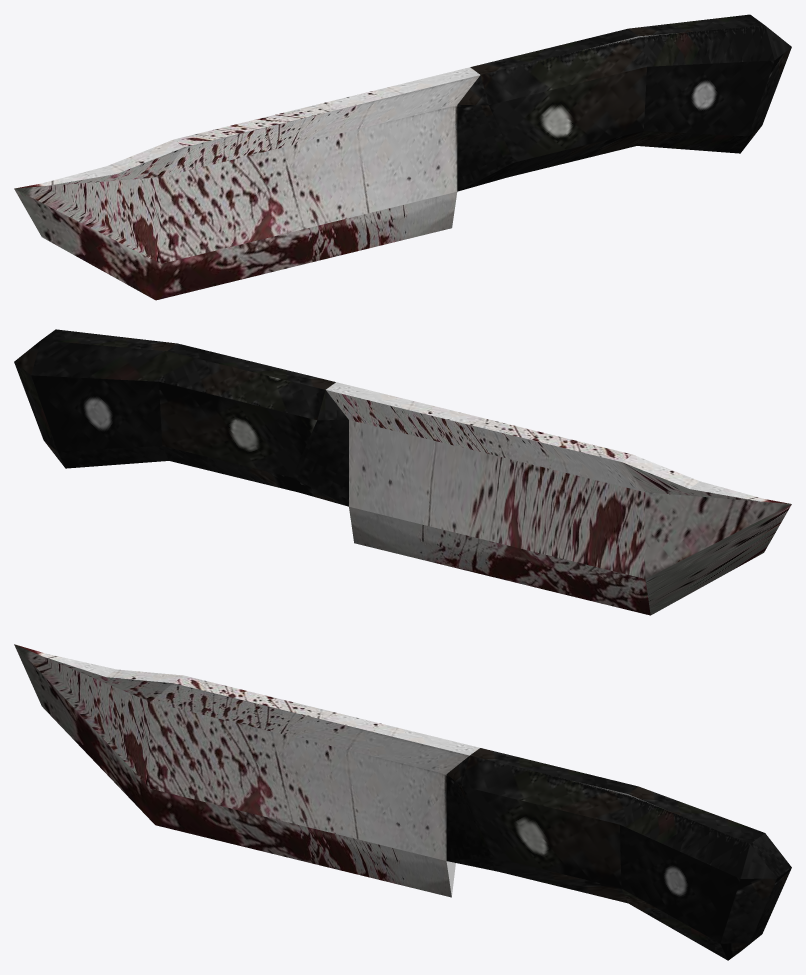
The model's file is Knife.fbx.
3 renders of one model, top to bottom at view 1: azimuth 30°, elevation 25°; view 2: azimuth 150°, elevation 25°; view 3: azimuth 330°, elevation 25°, orthographic.
Visible parts, largest first — view 1: Knife; view 2: Knife; view 3: Knife.
Part boxes in pixels (x1,y1,x2,y2): Knife: [14, 14, 791, 300]; Knife: [14, 329, 791, 615]; Knife: [14, 644, 791, 960].
Size of the model in its own units: 349 by 65.5 by 26.74.
